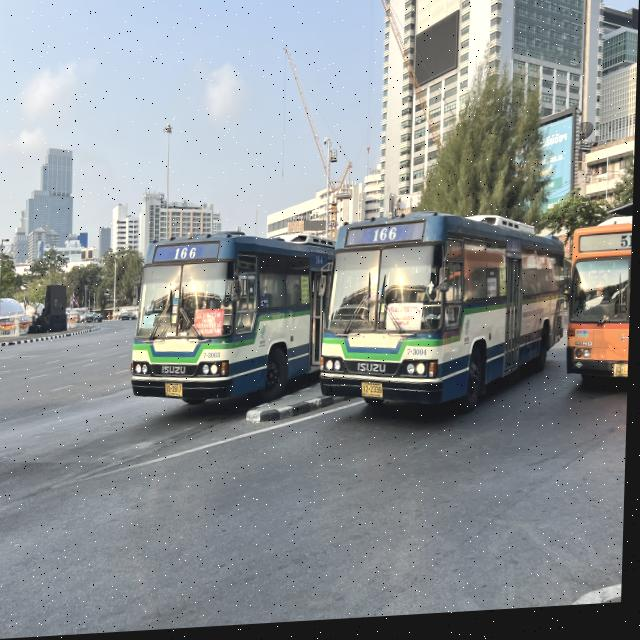BMTA-bus: (323, 211, 570, 428), (131, 231, 334, 413), (565, 216, 634, 405)
Bus-Line-Number: (371, 225, 402, 249), (173, 245, 202, 267), (620, 239, 634, 257)
Destination-Sign-Extra-Bus: (388, 306, 426, 340), (192, 308, 225, 342)
